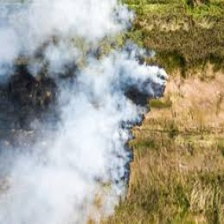smoke: (3, 43, 161, 224)
